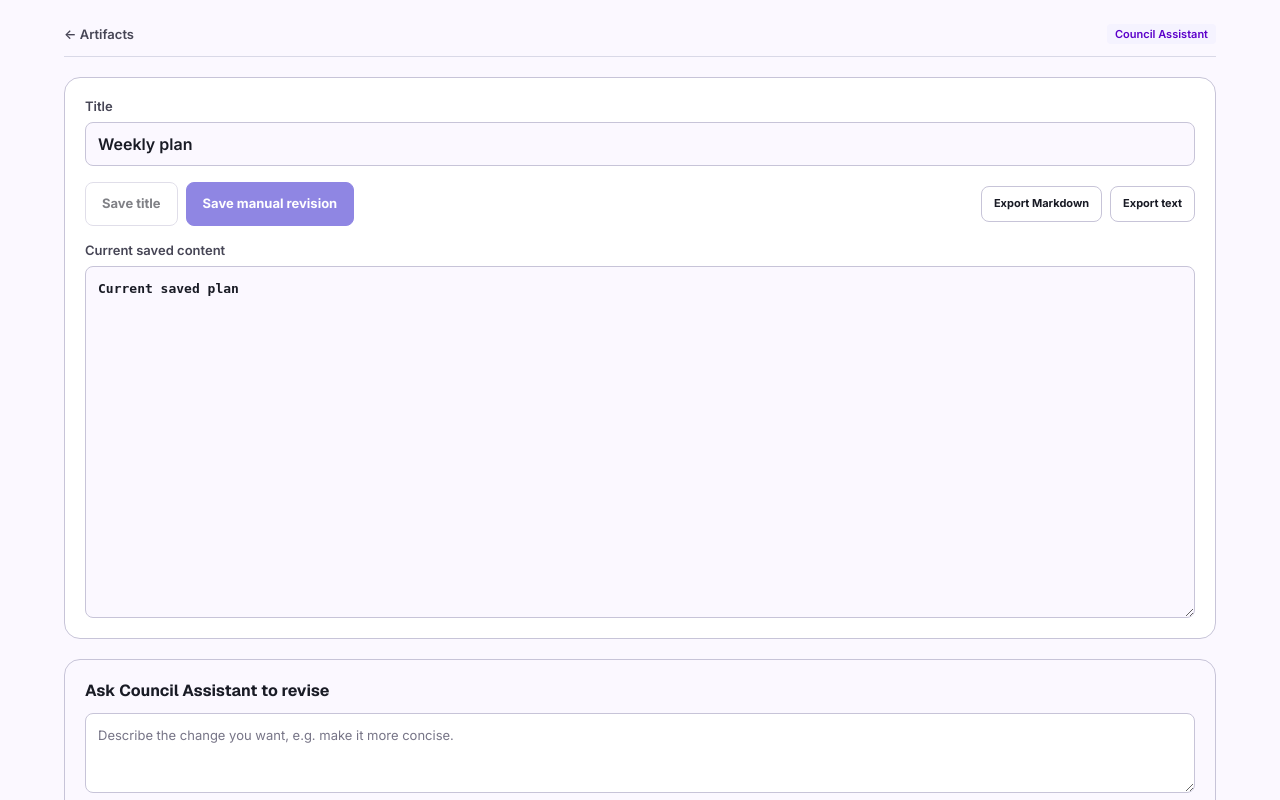
Test: ArtifactDetailPage › warns before route navigation with unsaved changes
Type " changed" into the text box labelled "Current saved content" at [640, 442], box [85,266,1195,618]
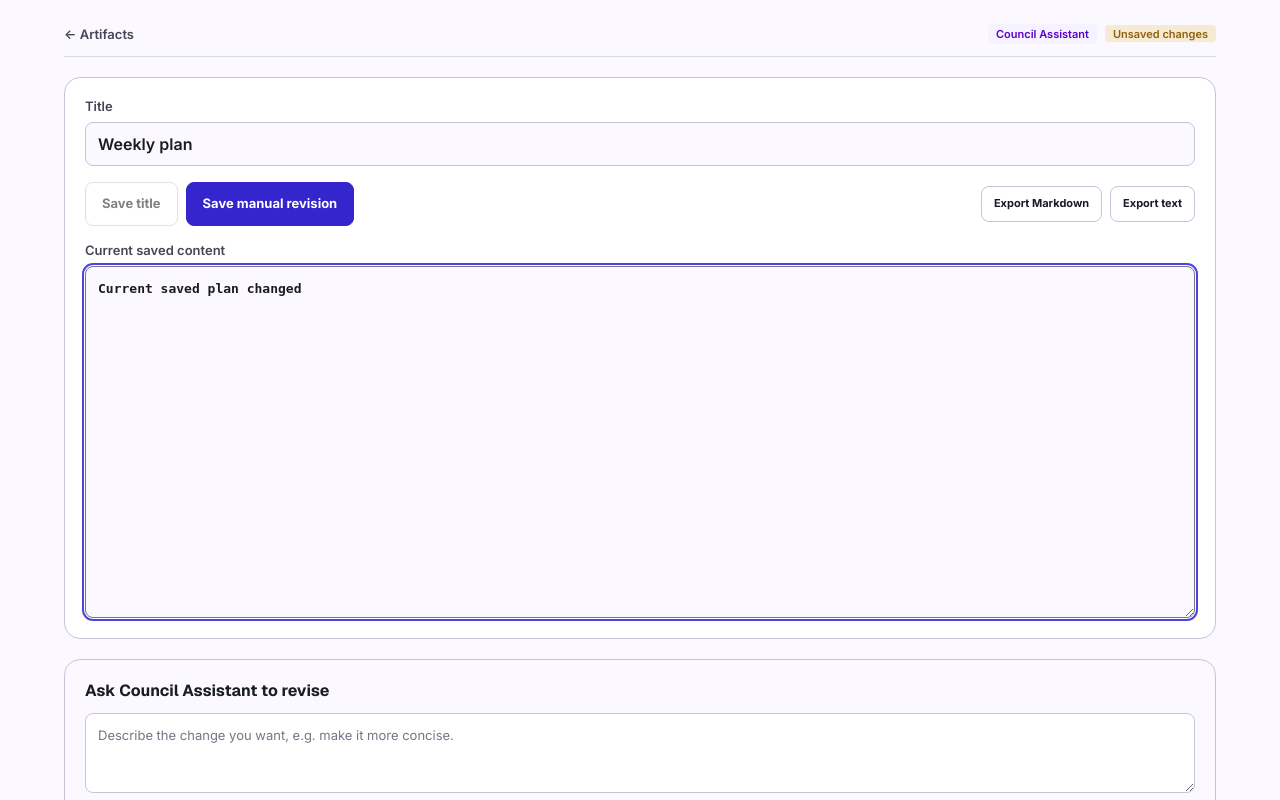
Click the link "← Artifacts" at [99, 34], box [64,26,134,42]
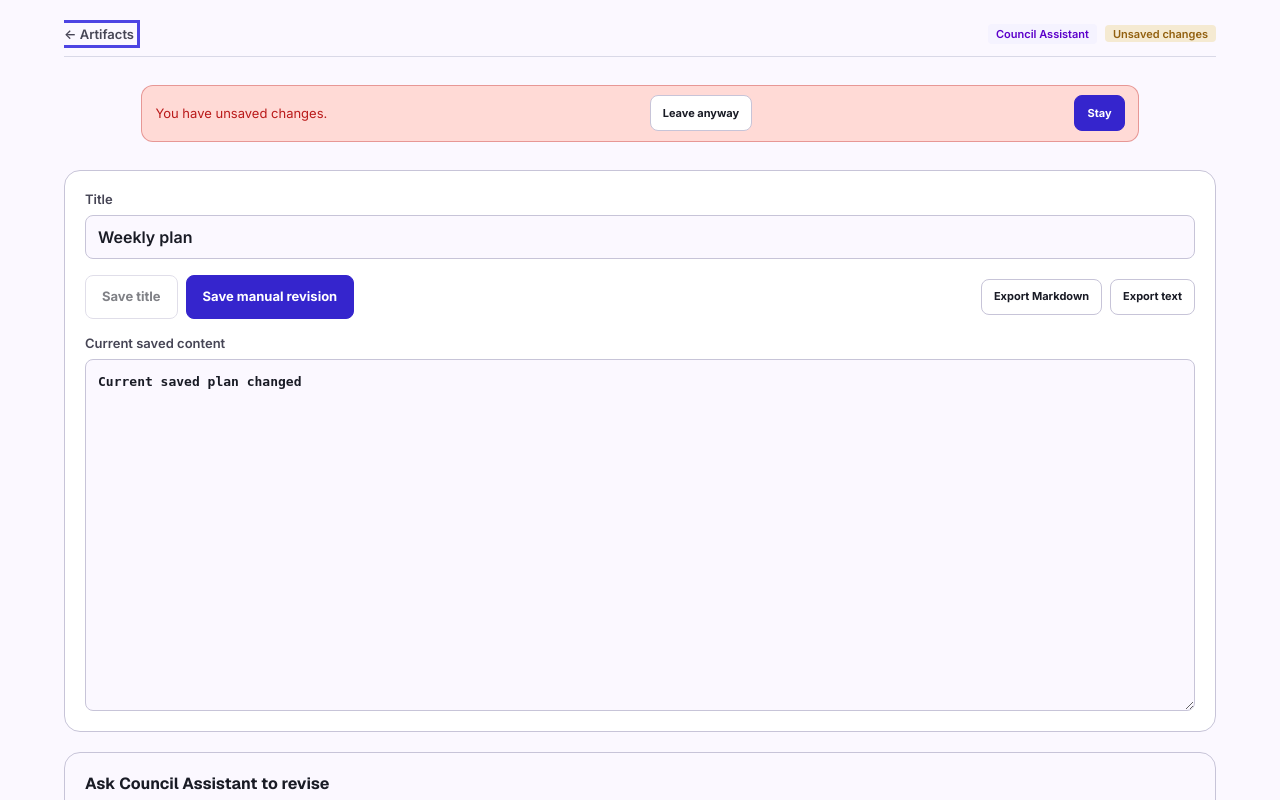
Check: the text "You have unsaved changes." is shown, box [155,105,327,121]
Check: the button "Stay" is shown, box [1074,95,1125,131]
